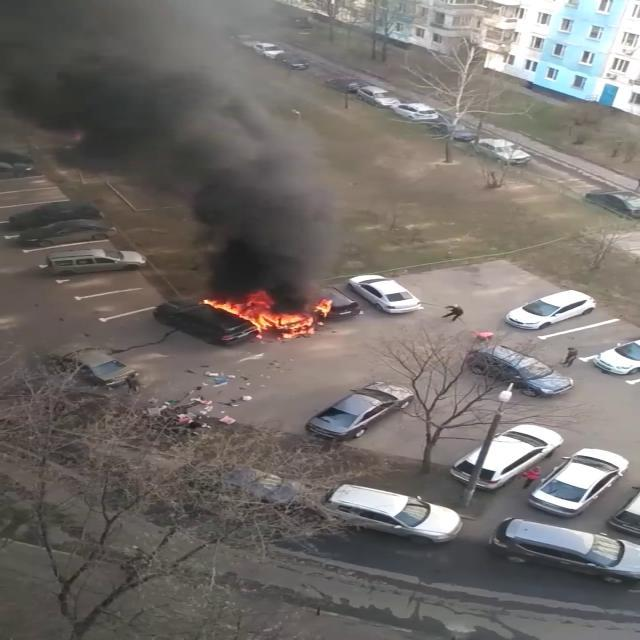Fire: (201, 290, 331, 338)
Smoke: (1, 0, 353, 285)
